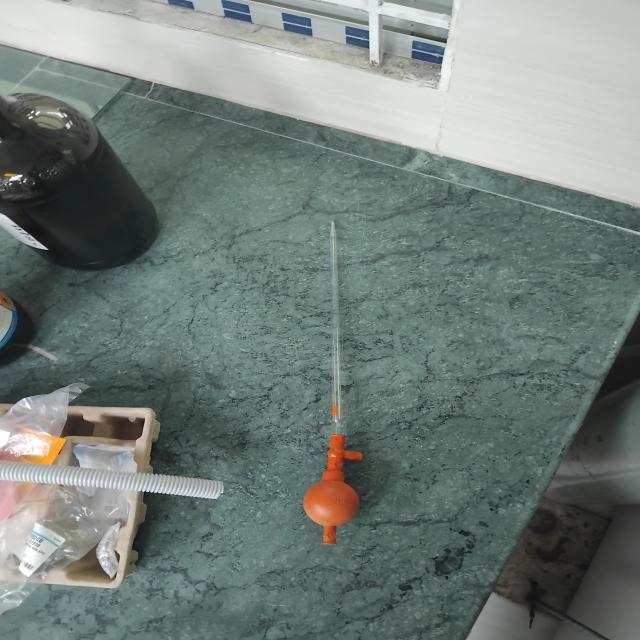Volumetric_Pipet: (282, 202, 392, 566)
